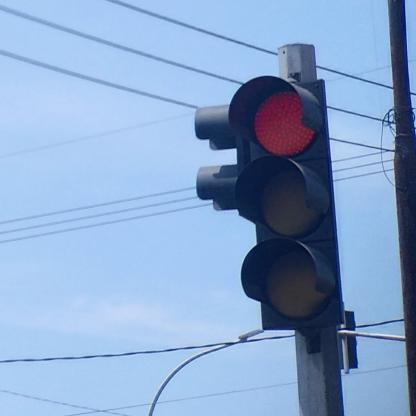red: (225, 75, 344, 327)
